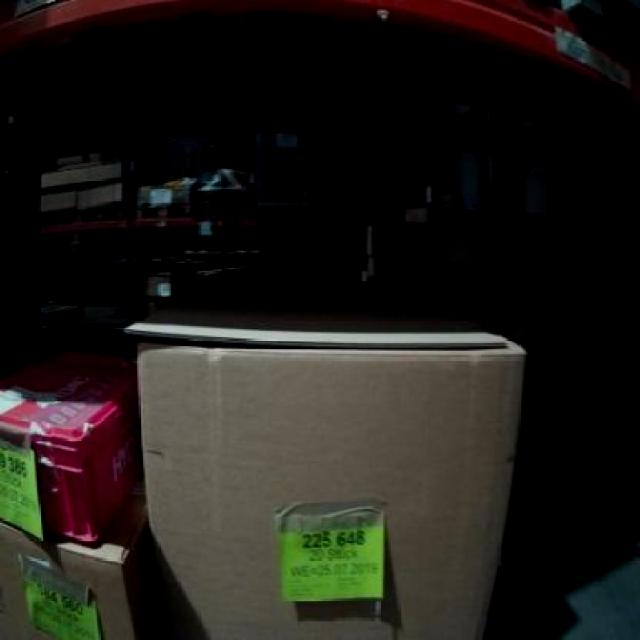pallet: (36, 200, 124, 230), (125, 200, 195, 220)
